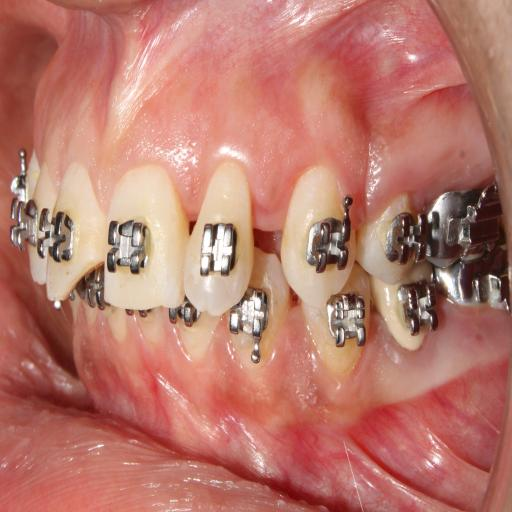correct_brace: (360, 192, 421, 276), (106, 214, 153, 288), (307, 206, 353, 276), (197, 212, 238, 282)
incorrect_brace: (183, 156, 255, 313), (386, 207, 424, 269)
